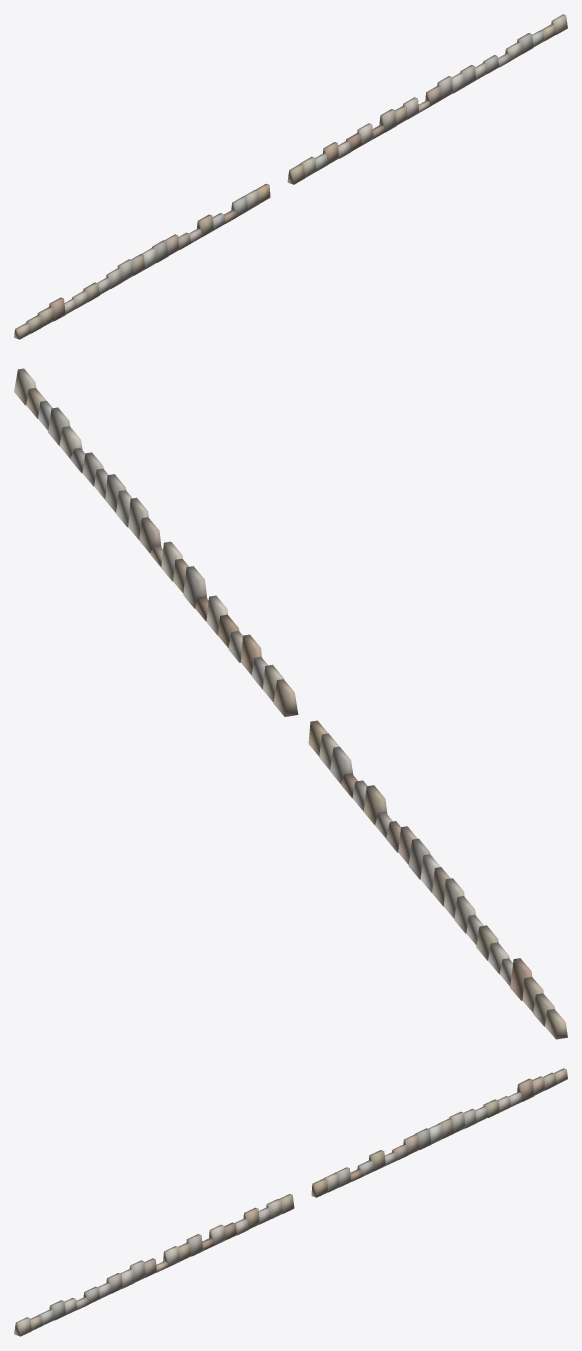
The model's file is farm_3_-3_collision.glb.
3 views of the same model, one above another, from view 1: azimuth 90°, elevation 25°; view 2: azimuth 150°, elevation 25°; view 3: azimuth 270°, elevation 25° (orthographic). The views are drawn at different scales.
Parts seen in each view (by area): view 1: geometry_0; view 2: geometry_0; view 3: geometry_0.
Part boxes in pixels (x1=…): geometry_0: x1=14, y1=14, x2=567, y2=339; geometry_0: x1=14, y1=368, x2=567, y2=1039; geometry_0: x1=14, y1=1068, x2=567, y2=1336.
Size of the model in its own units: 58.9 by 3.79 by 48.13.
